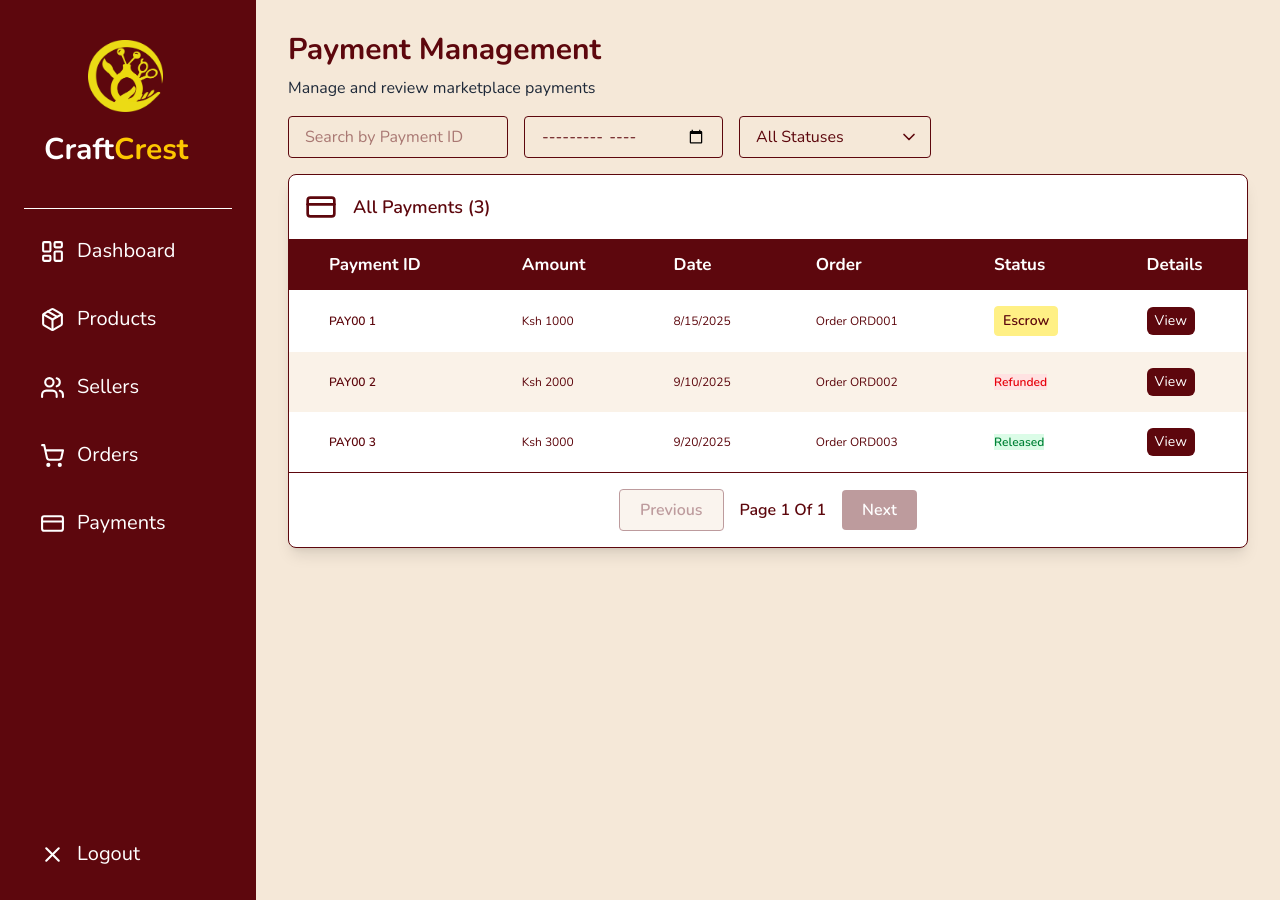
Test case: PaymentTable › filters payments by payment ID search
Type "2" into the field with placeholder "Search by Payment ID". click: point(398, 137)
box: [288,116,508,158]
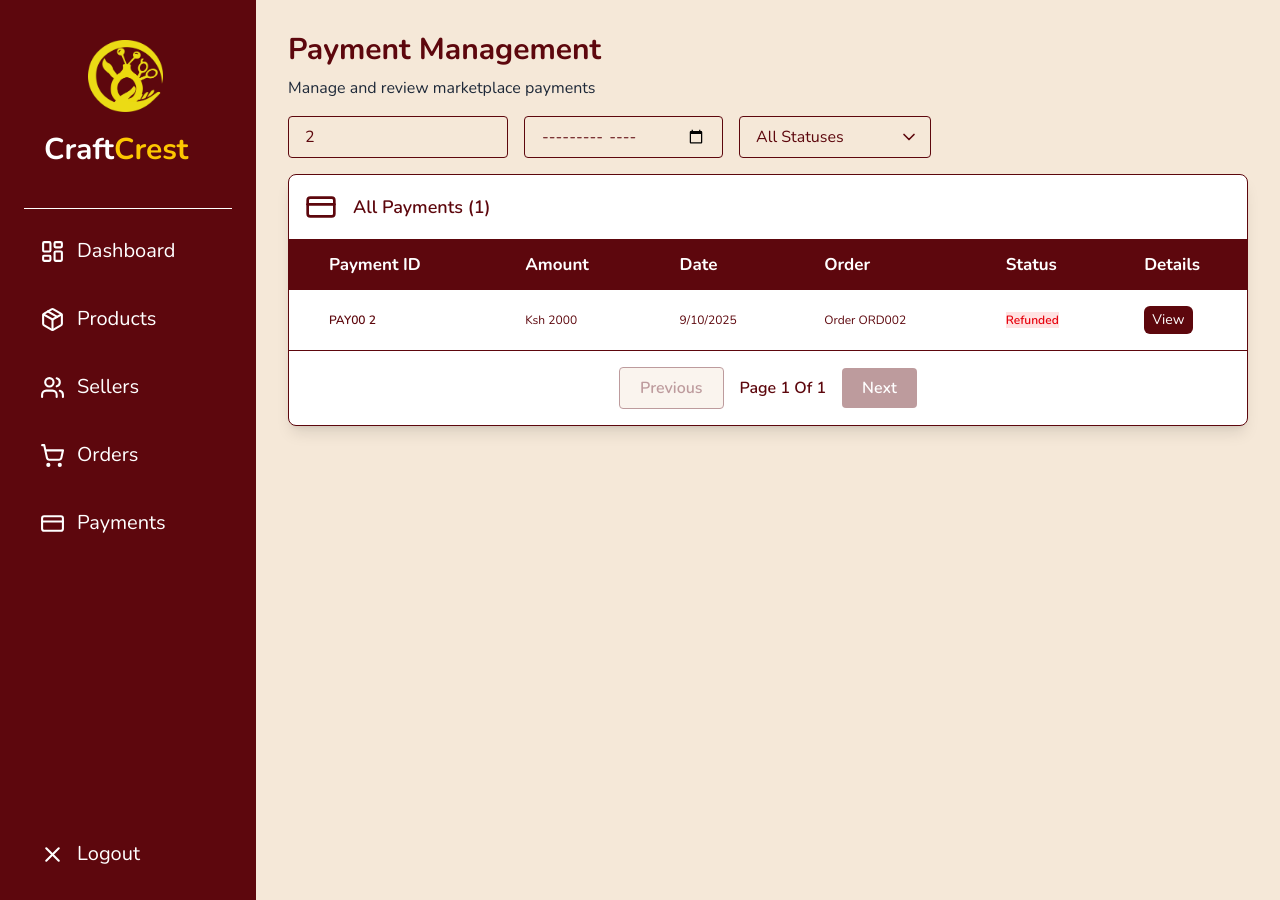
Expected: the text "PAY00 2" is shown, [289,290,485,350]
Now the text "PAY00 1" is gone
